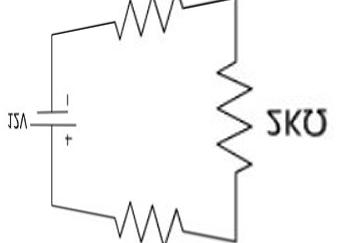resistor: (187, 42, 259, 183), (92, 188, 184, 241), (105, 0, 201, 20)
